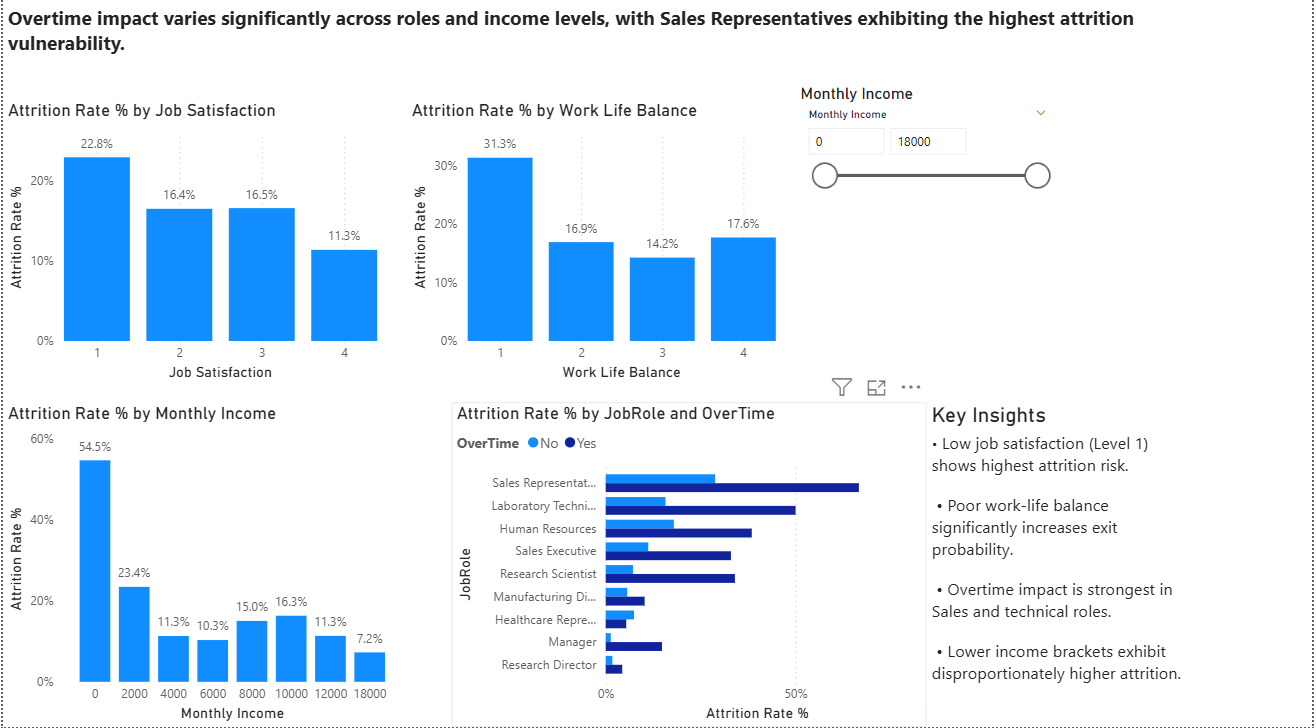

The page's visual inventory and layout, read from the dashboard file:
{"tool":"powerbi","page":{"name":"Driver Analysis","canvas":[1280,720],"ordinal":2},"visuals":[{"type":"clusteredColumnChart","fields":{"Y":["HR.Attrition Rate %"],"Category":["HR.JobSatisfaction"]},"box":[0,106.2,371.2,280],"z":0},{"type":"clusteredColumnChart","fields":{"Y":["HR.Attrition Rate %"],"Category":["HR.WorkLifeBalance"]},"box":[395,106.2,366.2,280],"z":1},{"type":"clusteredColumnChart","fields":{"Y":["HR.Attrition Rate %"],"Category":["HR.MonthlyIncome (bins)"]},"box":[0,402.5,395,317.5],"z":2},{"type":"clusteredBarChart","fields":{"Category":["HR.JobRole"],"Y":["HR.Attrition Rate %"],"Series":["HR.OverTime"]},"box":[438.8,402.5,465,317.5],"z":3},{"type":"slicer","title":"Monthly Income","fields":{"Values":["HR.MonthlyIncome (bins)"]},"box":[775,91.2,257.5,106.2],"z":4},{"type":"textbox","box":[0,8.8,1156.2,82.5],"z":5},{"type":"textbox","title":"Key Insights","box":[903.8,402.5,268.8,290],"z":6}]}

Visuals, with their boxes in screenshot pixels (x1, y1, x2, y2), scaled from the page's 1280x720 canvas onto the 1316x728 screenshot:
clusteredColumnChart - HR.Attrition Rate % x HR.JobSatisfaction: {"left": 0, "top": 107, "right": 382, "bottom": 390}
clusteredColumnChart - HR.Attrition Rate % x HR.WorkLifeBalance: {"left": 406, "top": 107, "right": 783, "bottom": 390}
clusteredColumnChart - HR.Attrition Rate % x HR.MonthlyIncome (bins): {"left": 0, "top": 407, "right": 406, "bottom": 727}
clusteredBarChart - HR.JobRole x HR.Attrition Rate %: {"left": 451, "top": 407, "right": 929, "bottom": 727}
"Monthly Income" slicer: {"left": 797, "top": 92, "right": 1062, "bottom": 200}
textbox: {"left": 0, "top": 9, "right": 1189, "bottom": 92}
"Key Insights" textbox: {"left": 929, "top": 407, "right": 1206, "bottom": 700}
